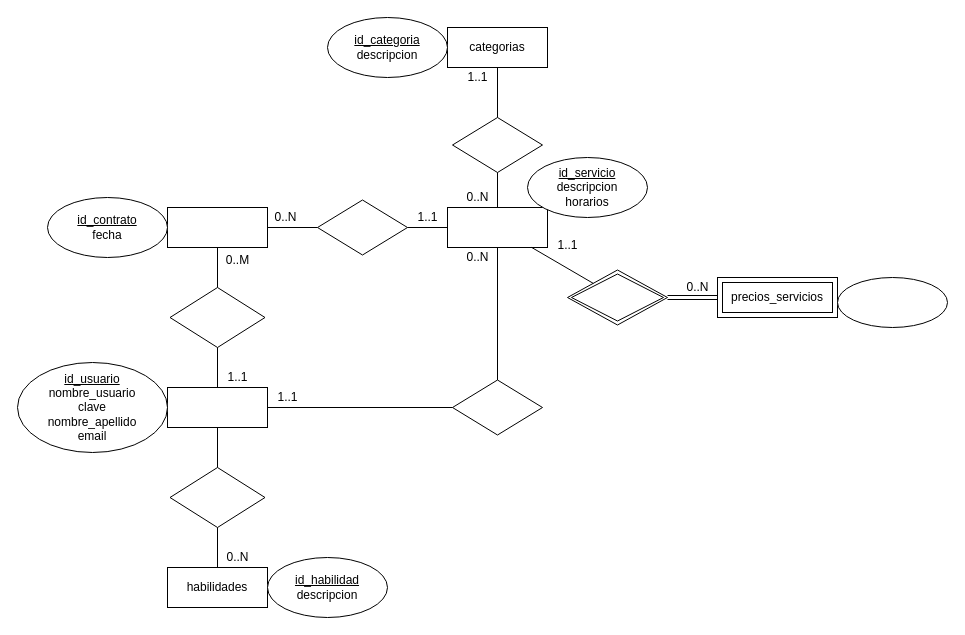
Some shapes in this 965 by 635 pixel diagram are drawn without their labels. Each missing label, with the centre of its shape:
contratos: the point at 217,227
fecha_desde precio: the point at 892,302
servicios: the point at 497,227
usuarios: the point at 217,407
